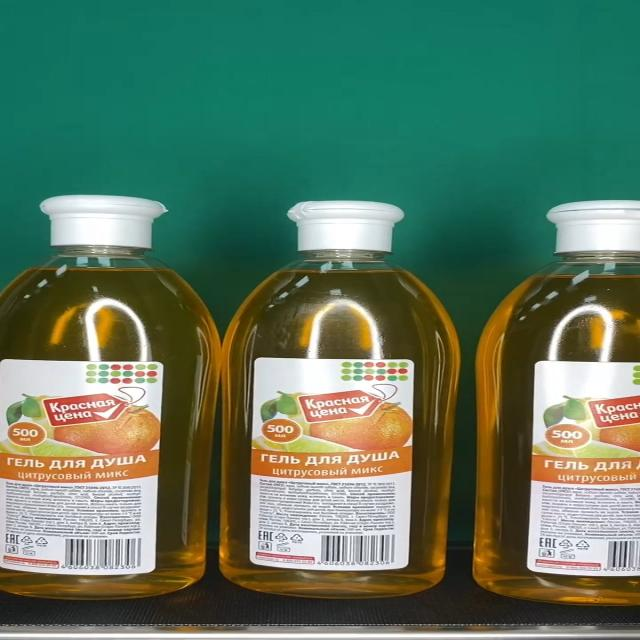Bottle: (220, 202, 461, 599), (0, 195, 222, 601)
Cap: (40, 195, 167, 248), (286, 202, 404, 252)
